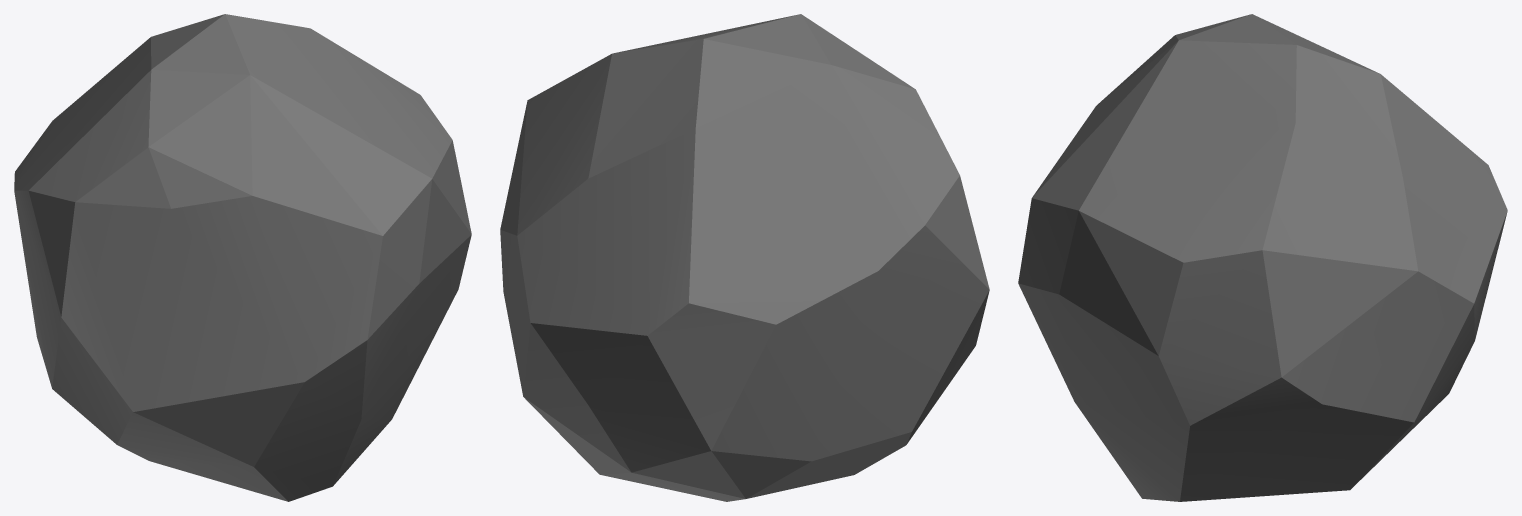
The model's file is Rock_2.FBX.
The picture shows the model from 3 angles, left to right: view 1: azimuth 30°, elevation 25°; view 2: azimuth 150°, elevation 25°; view 3: azimuth 270°, elevation 25°; orthographic projection. The views are drawn at different scales.
Parts seen in each view (by area): view 1: Rock_2; view 2: Rock_2; view 3: Rock_2.
Part boxes in pixels (left/top/right/bottom): Rock_2: left=14, top=14, right=471, bottom=501; Rock_2: left=500, top=14, right=989, bottom=501; Rock_2: left=1018, top=14, right=1507, bottom=501.
Size of the model in its own units: 183 by 184 by 185.
